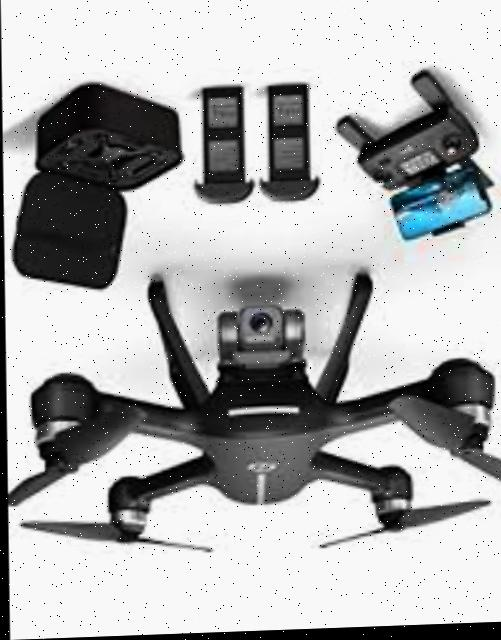drone: (3, 258, 501, 584)
